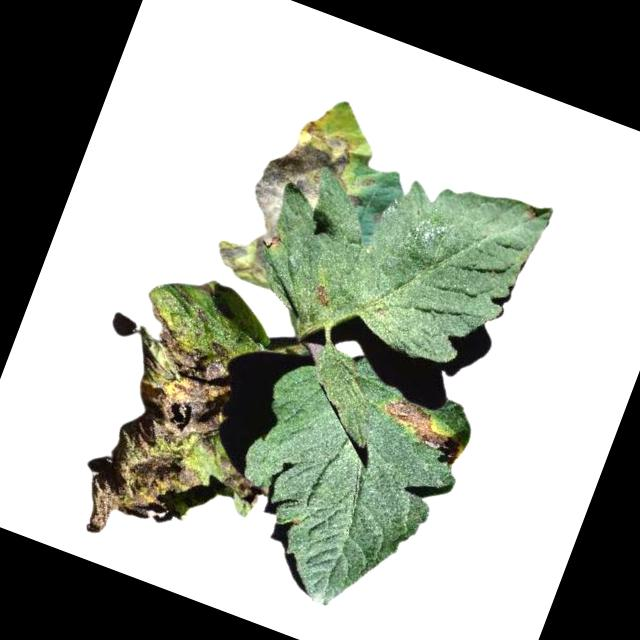Early_blight: (69, 303, 254, 562), (245, 112, 367, 257), (204, 221, 285, 291), (377, 396, 455, 458), (219, 468, 272, 511), (307, 281, 337, 312), (352, 170, 378, 196), (522, 203, 541, 223), (345, 193, 362, 210)
